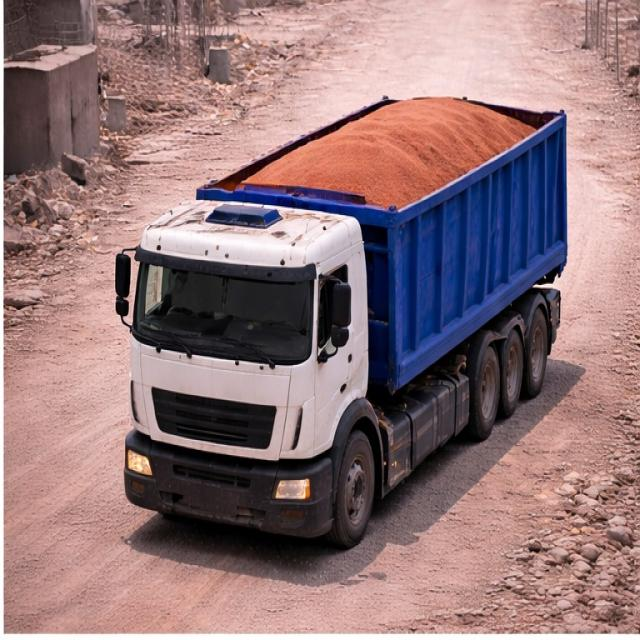Box: (192, 96, 564, 221)
Truck: (107, 61, 578, 552)
